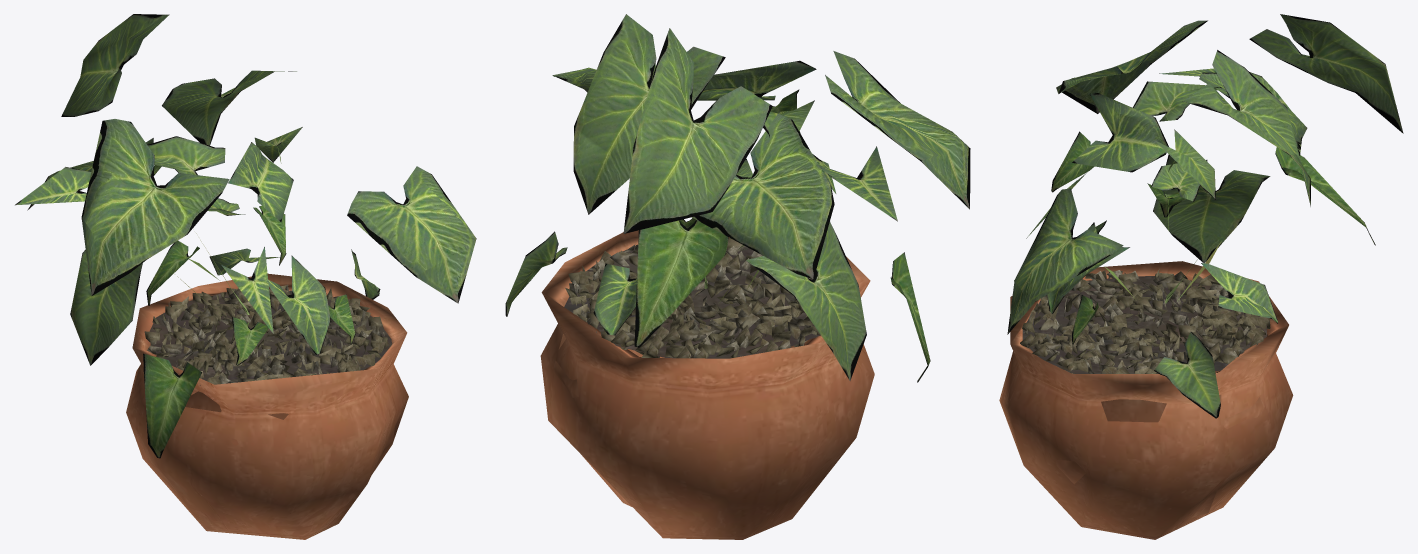
The model's file is potted_plant_02.glb.
3 views of the same model, side by side, from view 1: azimuth 30°, elevation 25°; view 2: azimuth 150°, elevation 25°; view 3: azimuth 270°, elevation 25° (orthographic). The views are drawn at different scales.
Visible parts, largest first — view 1: potted_plant_02_leaves, potted_plant_02_pot, potted_plant_02_dirt; view 2: potted_plant_02_leaves, potted_plant_02_pot, potted_plant_02_dirt; view 3: potted_plant_02_leaves, potted_plant_02_pot, potted_plant_02_dirt.
Part boxes in pixels (x1,y1,x2,y2): potted_plant_02_leaves: [15, 14, 476, 458]; potted_plant_02_pot: [126, 273, 408, 539]; potted_plant_02_dirt: [144, 284, 391, 385]; potted_plant_02_leaves: [505, 14, 970, 382]; potted_plant_02_pot: [540, 230, 874, 539]; potted_plant_02_dirt: [564, 238, 820, 358]; potted_plant_02_leaves: [1007, 14, 1403, 418]; potted_plant_02_pot: [999, 261, 1293, 539]; potted_plant_02_dirt: [1020, 269, 1270, 373].
Bounding box in the file's own units: 0.6967 × 0.8395 × 0.6451.
2 materials, 2 textured.
